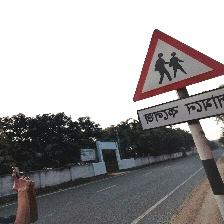College-in-front: (121, 25, 224, 139)
